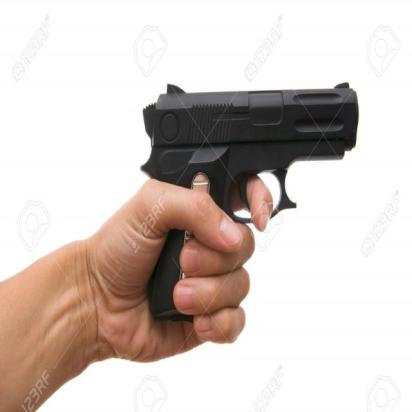Gun: (138, 72, 373, 328)
